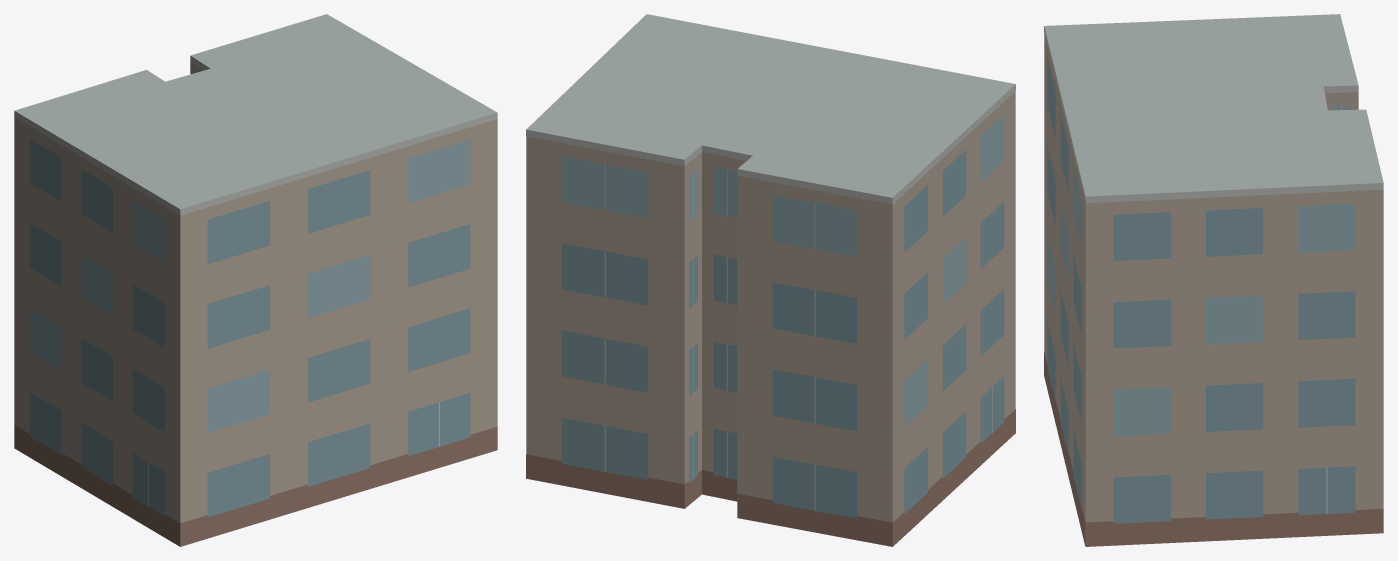
The model's file is survey-upis-32567466.glb.
The picture shows the model from 3 angles, left to right: view 1: azimuth 30°, elevation 25°; view 2: azimuth 150°, elevation 25°; view 3: azimuth 270°, elevation 25°; orthographic projection. The views are drawn at different scales.
Parts seen in each view (by area): view 1: survey-upis-32567466.tmp; view 2: survey-upis-32567466.tmp; view 3: survey-upis-32567466.tmp.
Part boxes in pixels (x1,y1,x2,y2): survey-upis-32567466.tmp: (14,14,497,546); survey-upis-32567466.tmp: (526,14,1015,546); survey-upis-32567466.tmp: (1044,14,1383,546).
Size of the model in its own units: 14.32 by 12.8 by 11.25.
